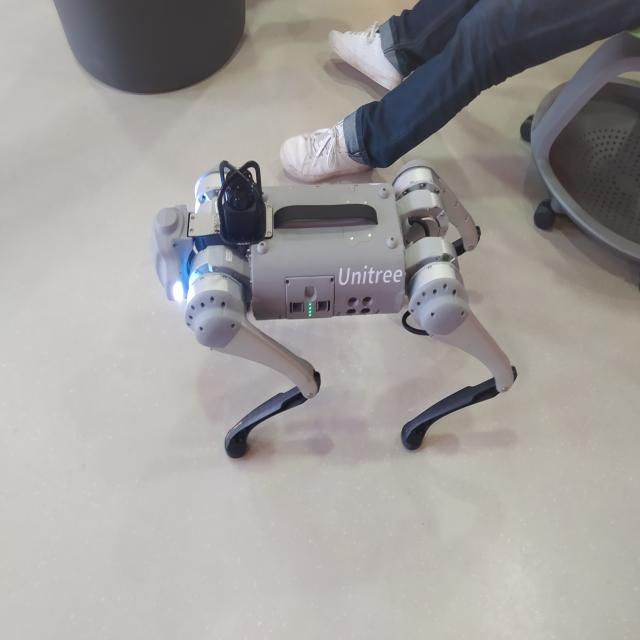unitree-go1-robot: (151, 165, 516, 458)
